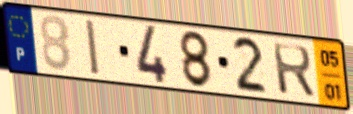2: (230, 34, 270, 98)
4: (134, 22, 170, 87)
8: (177, 29, 215, 91), (38, 14, 74, 75)
I: (83, 17, 103, 78)
R: (270, 41, 318, 101)
